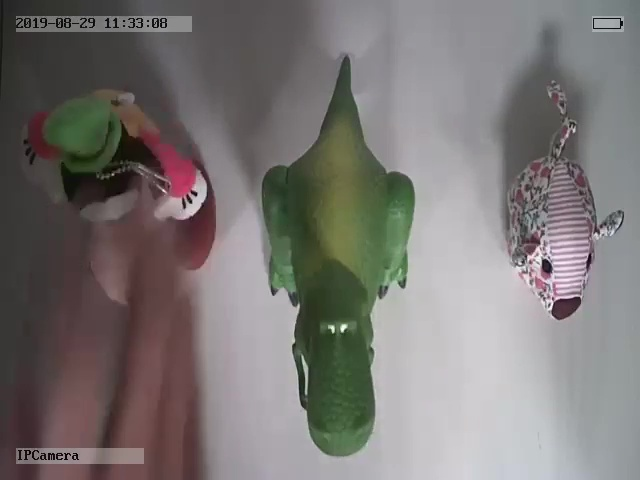pig: (499, 79, 625, 320)
rex: (257, 53, 416, 458)
